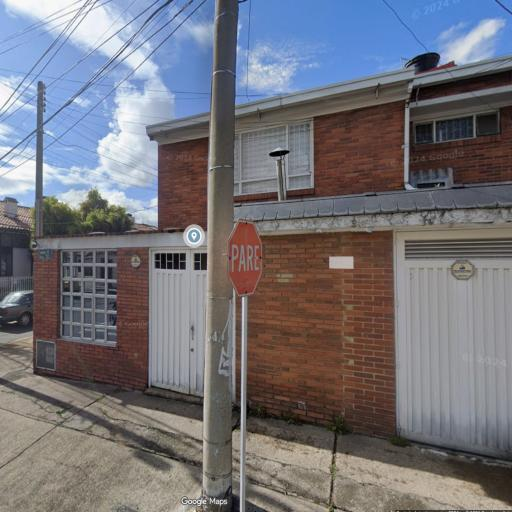Casa: (34, 76, 401, 436)
postes: (202, 0, 242, 505)
